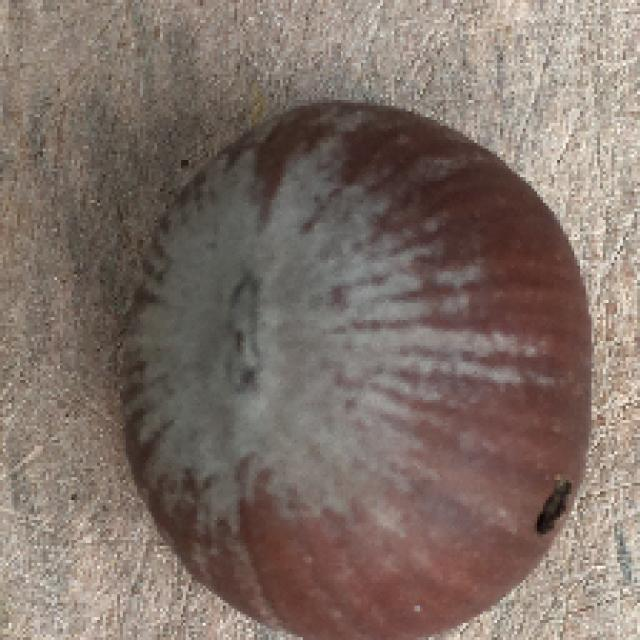damagedHazelnut: (125, 97, 607, 636)
